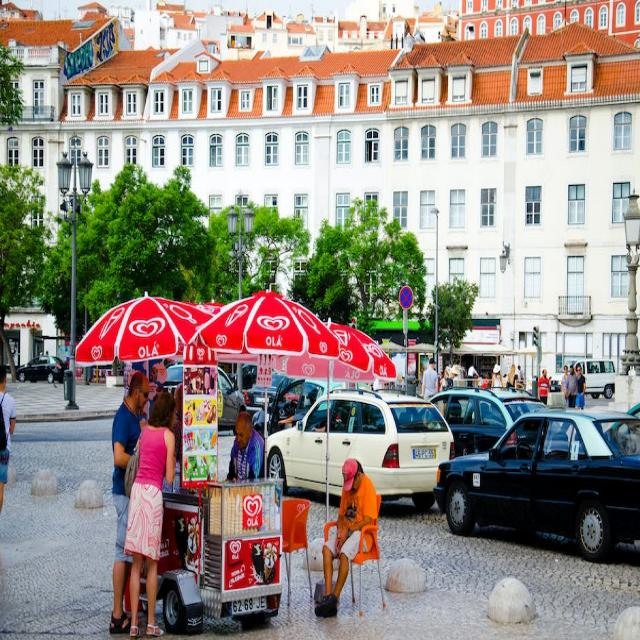no stopping: (400, 287, 412, 308)
